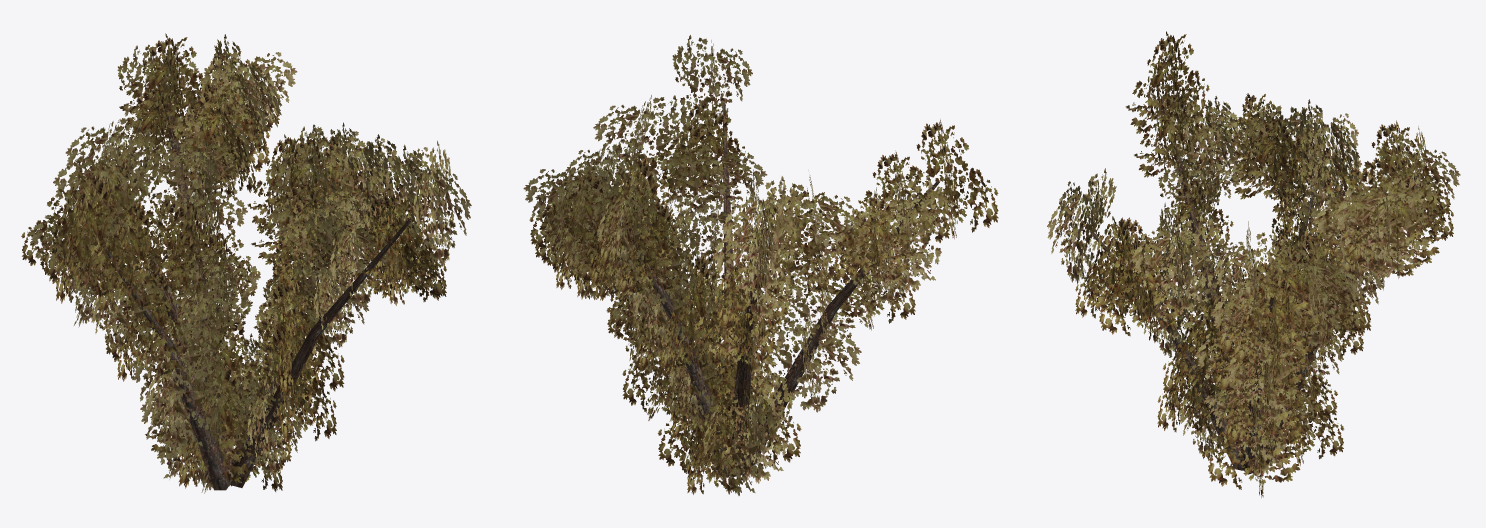
The model's file is bush_3d_03_golden_beige_lod1.glb.
3 renders of one model, left to right at view 1: azimuth 30°, elevation 25°; view 2: azimuth 150°, elevation 25°; view 3: azimuth 270°, elevation 25°, orthographic. The views are drawn at different scales.
Parts seen in each view (by area): view 1: foliage_cards, wood_geometry; view 2: foliage_cards, wood_geometry; view 3: foliage_cards, wood_geometry.
Part boxes in pixels (bbox=[...]): foliage_cards: bbox=[21, 33, 471, 493]; wood_geometry: bbox=[102, 79, 410, 490]; foliage_cards: bbox=[523, 35, 998, 495]; wood_geometry: bbox=[622, 103, 939, 476]; foliage_cards: bbox=[1047, 31, 1460, 498]; wood_geometry: bbox=[1089, 98, 1418, 474].
Size of the model in its own units: 2.39 by 2.08 by 2.25.
Materials: 2 (2 with a texture image).
